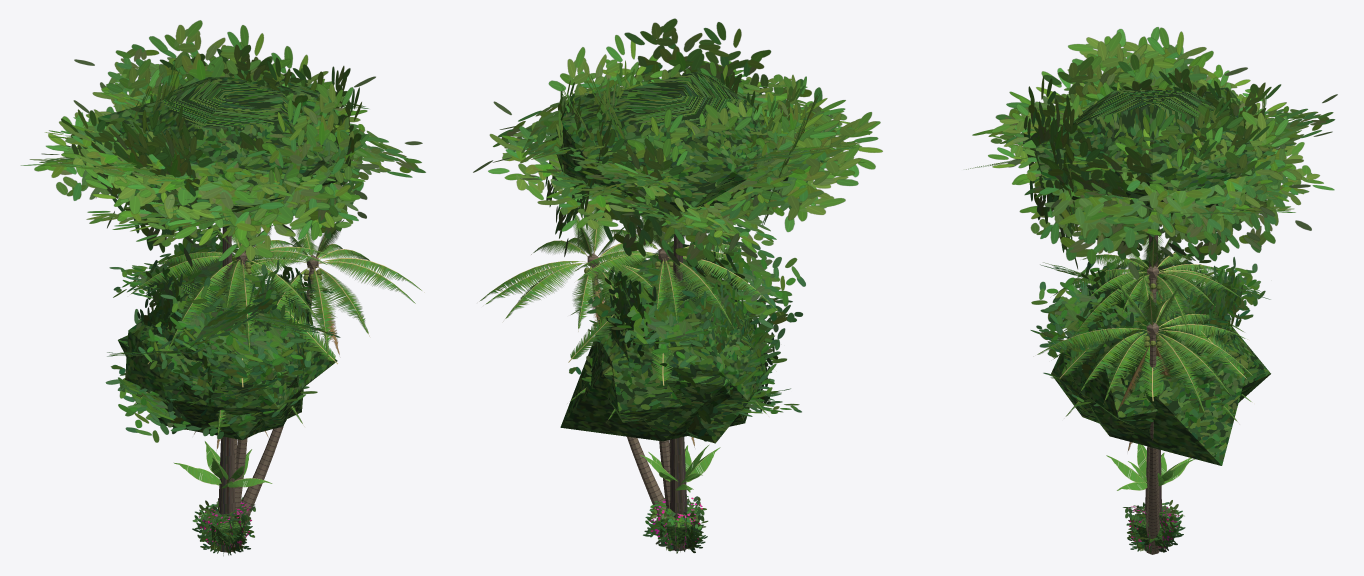
The model's file is vegetation.glb.
3 renders of one model, left to right at view 1: azimuth 30°, elevation 25°; view 2: azimuth 150°, elevation 25°; view 3: azimuth 270°, elevation 25°, orthographic.
Parts seen in each view (by area): view 1: TreeTall, TreeJungle, TreeLo, PalmLean, PalmTall, Bougainvillea, FarCanopy, Banana, PalmLo, Bush; view 2: TreeTall, TreeJungle, TreeLo, PalmLean, FarCanopy, PalmTall, Bougainvillea, PalmLo, Banana; view 3: TreeTall, TreeJungle, PalmLean, FarCanopy, TreeLo, PalmTall, PalmLo, Bougainvillea, Banana.
Part boxes in pixels (left/top/right/bottom): TreeTall: left=21, top=20, right=425, bottom=552; TreeJungle: left=105, top=226, right=340, bottom=442; TreeLo: left=125, top=316, right=337, bottom=432; PalmLean: left=232, top=217, right=424, bottom=552; PalmTall: left=130, top=225, right=330, bottom=517; Bougainvillea: left=192, top=497, right=255, bottom=553; FarCanopy: left=118, top=335, right=303, bottom=440; Banana: left=174, top=441, right=272, bottom=488; PalmLo: left=147, top=280, right=337, bottom=456; Bush: left=197, top=509, right=254, bottom=555; TreeTall: left=473, top=18, right=882, bottom=550; TreeJungle: left=569, top=221, right=805, bottom=441; TreeLo: left=597, top=327, right=767, bottom=443; PalmLean: left=479, top=207, right=673, bottom=550; FarCanopy: left=560, top=335, right=764, bottom=441; PalmTall: left=574, top=217, right=780, bottom=515; Bougainvillea: left=643, top=496, right=706, bottom=551; PalmLo: left=568, top=295, right=755, bottom=457; Banana: left=640, top=445, right=720, bottom=492; TreeTall: left=966, top=27, right=1337, bottom=552; TreeJungle: left=1030, top=246, right=1270, bottom=421; PalmLean: left=1033, top=274, right=1252, bottom=554; FarCanopy: left=1065, top=356, right=1248, bottom=465; TreeLo: left=1051, top=321, right=1270, bottom=431; PalmTall: left=1050, top=235, right=1240, bottom=519; PalmLo: left=1059, top=322, right=1246, bottom=401; Bougainvillea: left=1123, top=500, right=1185, bottom=553; Banana: left=1106, top=444, right=1194, bottom=490.
Size of the model in its own units: 17.97 by 20.67 by 15.86.
Materials: 12 (10 with a texture image).
